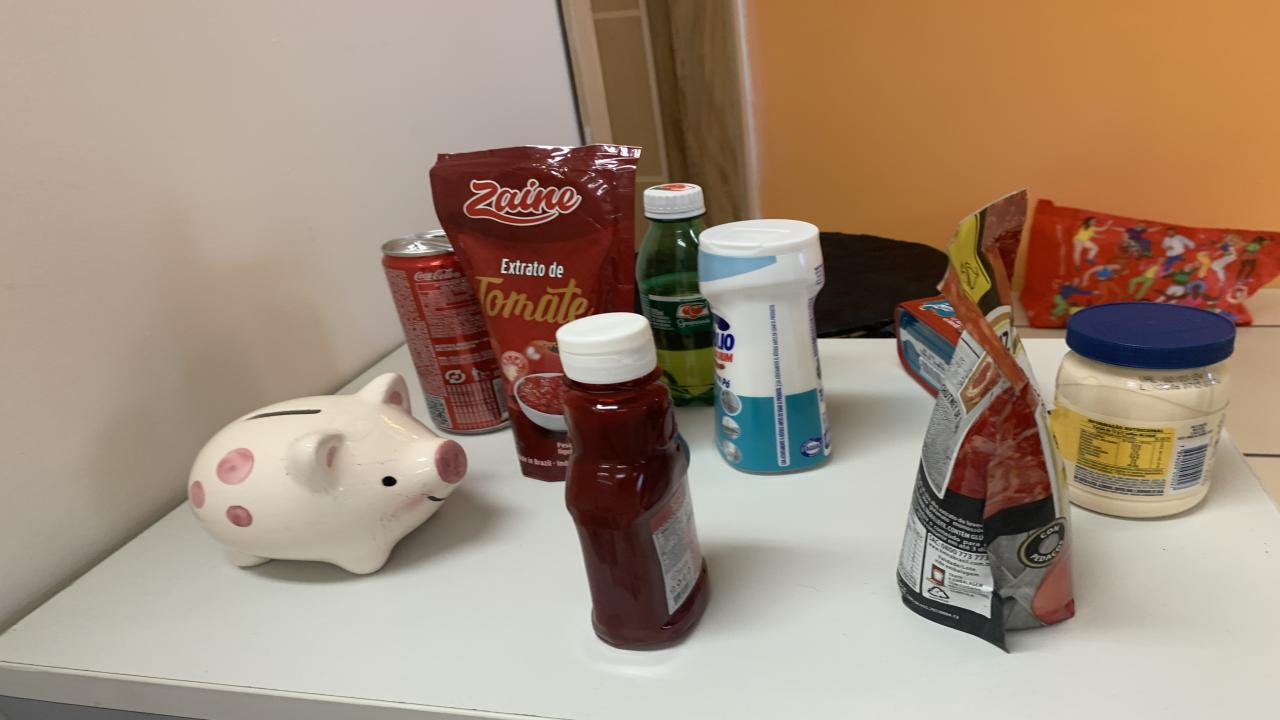Cleaner-Cleanup_Items: (698, 219, 832, 472)
Coke-Drinks: (382, 229, 510, 433)
Guarana-Drinks: (635, 182, 712, 405)
Ketchup-Pantry_Items: (558, 311, 710, 649)
Mayonnaise-Pantry_Items: (1050, 302, 1235, 518)
Pig_Safe-Miscellaneous: (190, 373, 468, 574)
Tomato_Sauce-Pantry_Items: (898, 191, 1075, 649), (430, 144, 640, 482)
Tuna_Can-Pantry_Items: (895, 296, 962, 396)
